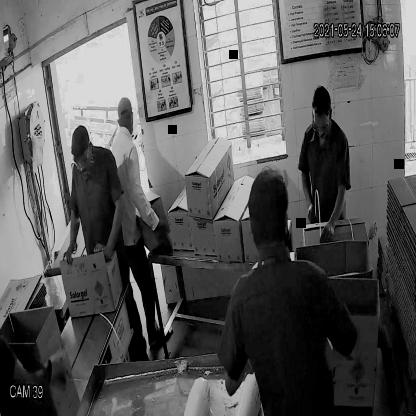goggles: (68, 152, 92, 170), (312, 118, 333, 136)
